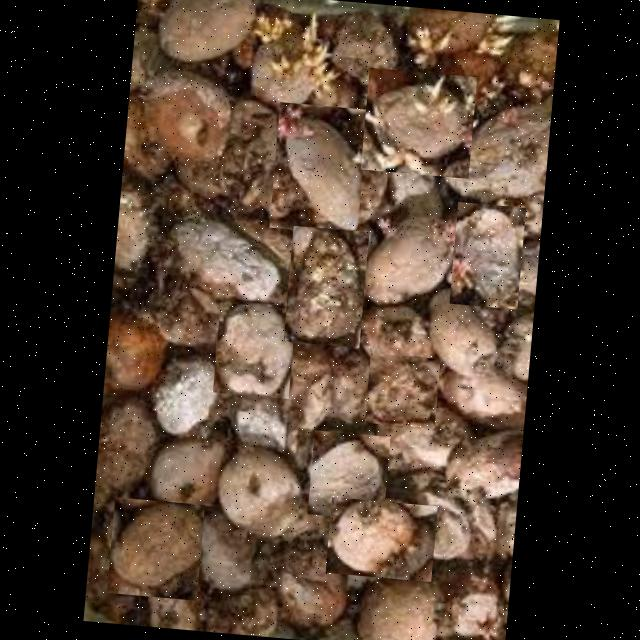Damaged potato: (210, 435, 323, 551), (167, 221, 290, 307), (282, 225, 368, 348), (105, 497, 204, 600), (211, 302, 295, 398), (306, 430, 389, 520), (152, 353, 223, 443), (363, 352, 439, 428)
Sprouted potato: (268, 102, 366, 235), (360, 68, 476, 178), (241, 13, 342, 126), (357, 210, 466, 312), (455, 90, 551, 201), (324, 496, 436, 582), (448, 201, 525, 309)
